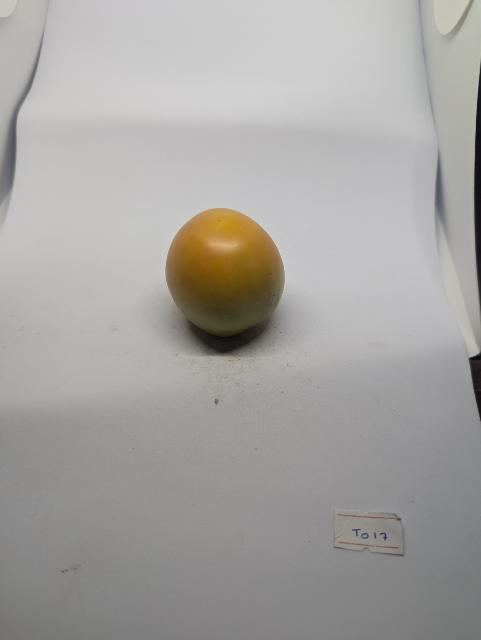turning: (161, 201, 297, 351)
